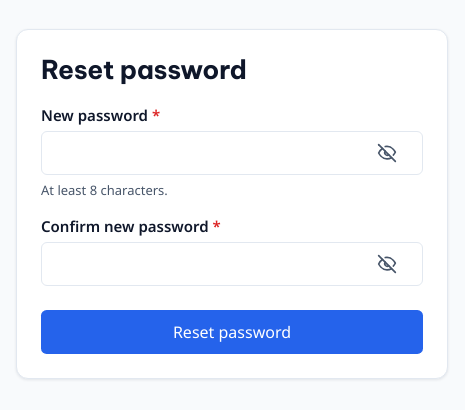
authentication pages › keeps reset drafts and shows mismatch and server validation inline
In the password field labelled "New password": (232, 153) [41, 131, 423, 175], type "new-password"
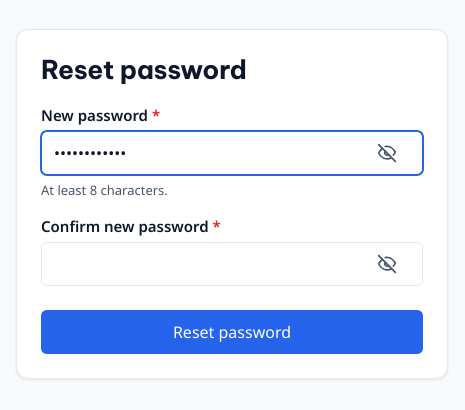
In the password field labelled "Confirm new password": (232, 264) [41, 242, 423, 286], type "different"
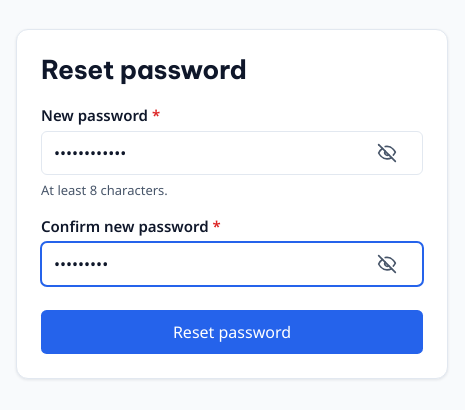
Click the button "Reset password": (232, 332) [41, 310, 423, 354]
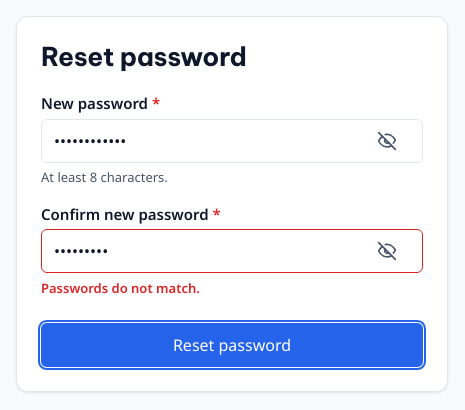
Check: the message reads "Passwords do not match.", box [41, 279, 200, 297]
In the password field labelled "Confirm new password": (232, 251) [41, 229, 423, 273], type "new-password"
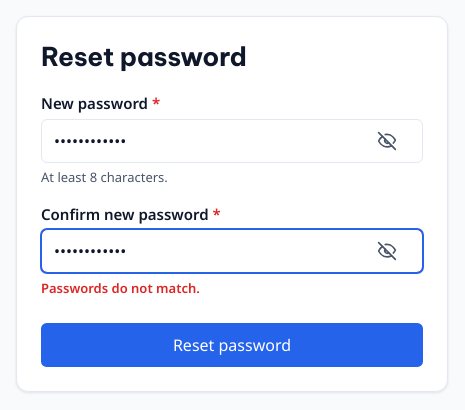
Click the button "Reset password": (232, 344) [41, 322, 423, 366]
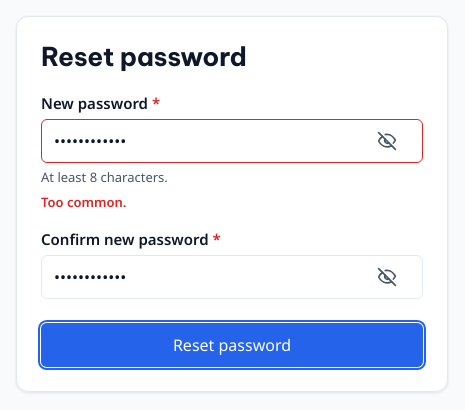
Check: the text "Too common." is shown, box [41, 193, 126, 211]
